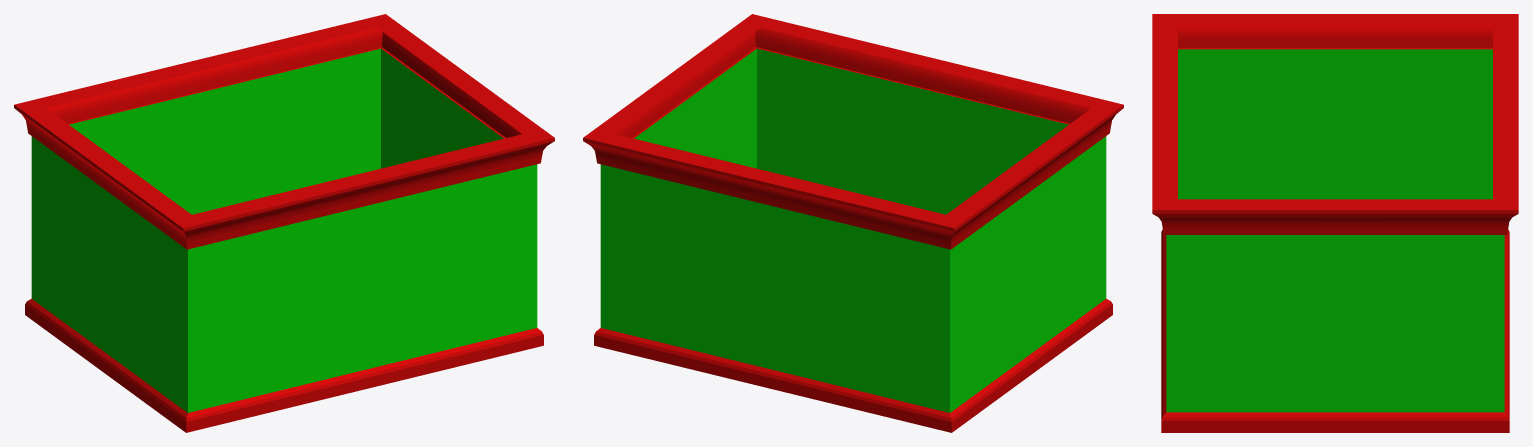
File: Building03_Base_Nice.fbx
3 views of the same model, side by side, from view 1: azimuth 30°, elevation 25°; view 2: azimuth 150°, elevation 25°; view 3: azimuth 270°, elevation 25° (orthographic). The views are drawn at different scales.
Visible parts, largest first — view 1: Building3_Base; view 2: Building3_Base; view 3: Building3_Base.
Part boxes in pixels (left/top/right/bottom): Building3_Base: left=14, top=14, right=554, bottom=432; Building3_Base: left=583, top=14, right=1123, bottom=432; Building3_Base: left=1152, top=14, right=1518, bottom=432.
Bounding box in the file's own units: 558 × 300 × 440.
